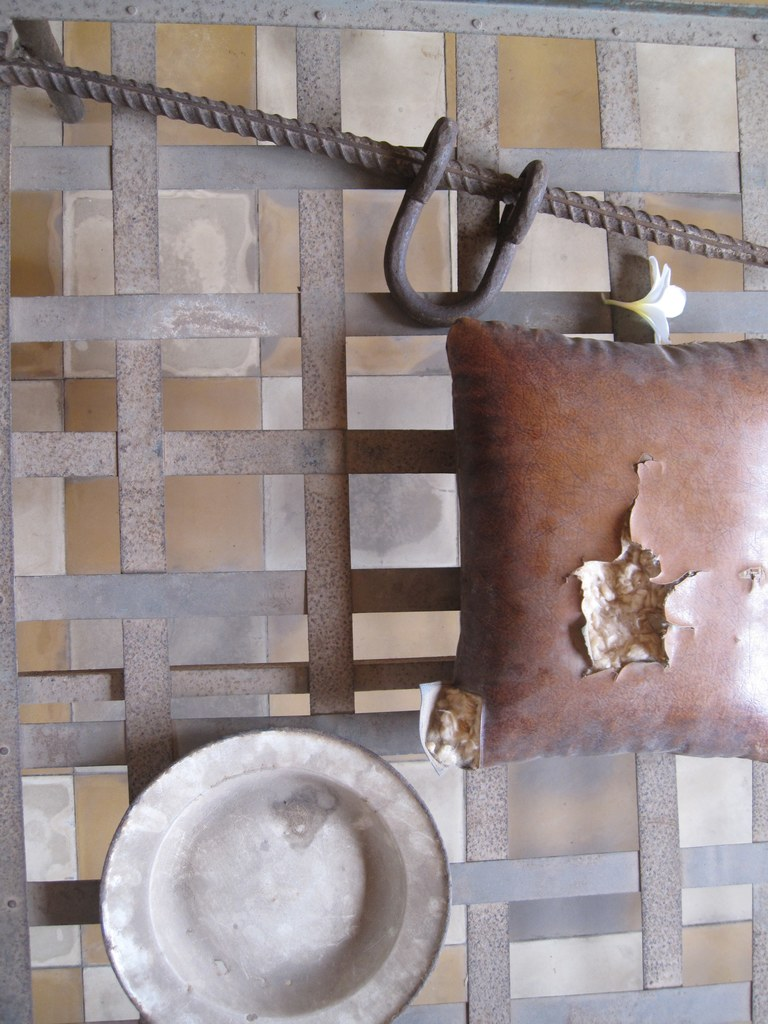plate: (107, 710, 435, 1023)
